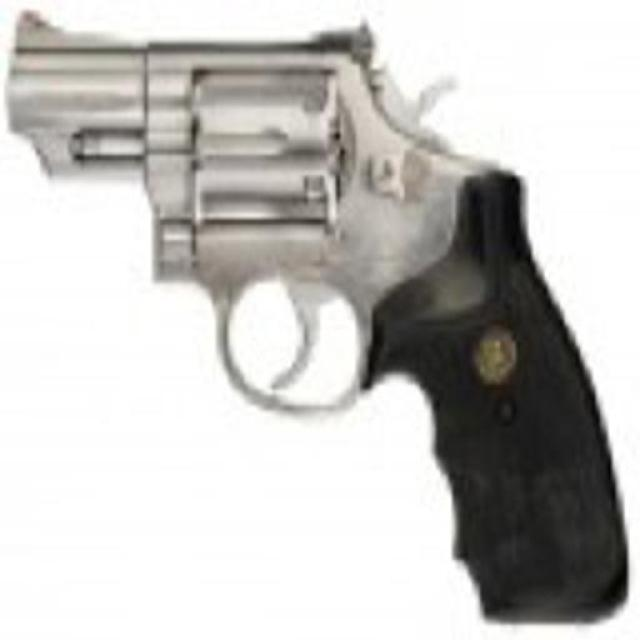pistol: (11, 5, 627, 624)
